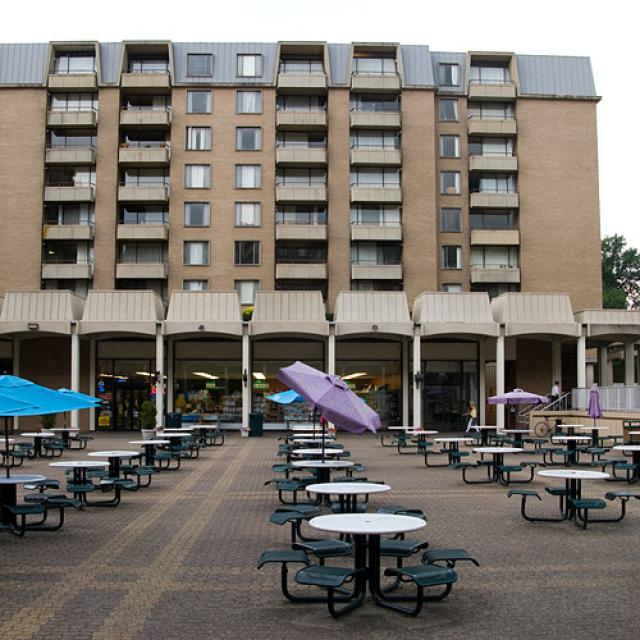chair: (23, 419, 631, 618), (296, 535, 367, 620), (374, 561, 459, 618), (507, 490, 565, 522), (588, 490, 639, 524), (8, 504, 43, 537), (451, 459, 495, 485), (422, 547, 478, 567), (391, 434, 417, 455), (500, 465, 522, 487), (569, 500, 606, 509), (544, 485, 571, 497), (587, 447, 610, 461), (450, 450, 471, 456)
dining table: (3, 416, 639, 534), (307, 510, 426, 606), (305, 481, 390, 515), (537, 468, 612, 499), (292, 460, 355, 483), (472, 446, 523, 467), (129, 440, 170, 466), (433, 437, 475, 452), (292, 448, 344, 455), (405, 429, 439, 435), (294, 439, 334, 444), (293, 433, 330, 437), (164, 427, 193, 432), (292, 428, 322, 431)
